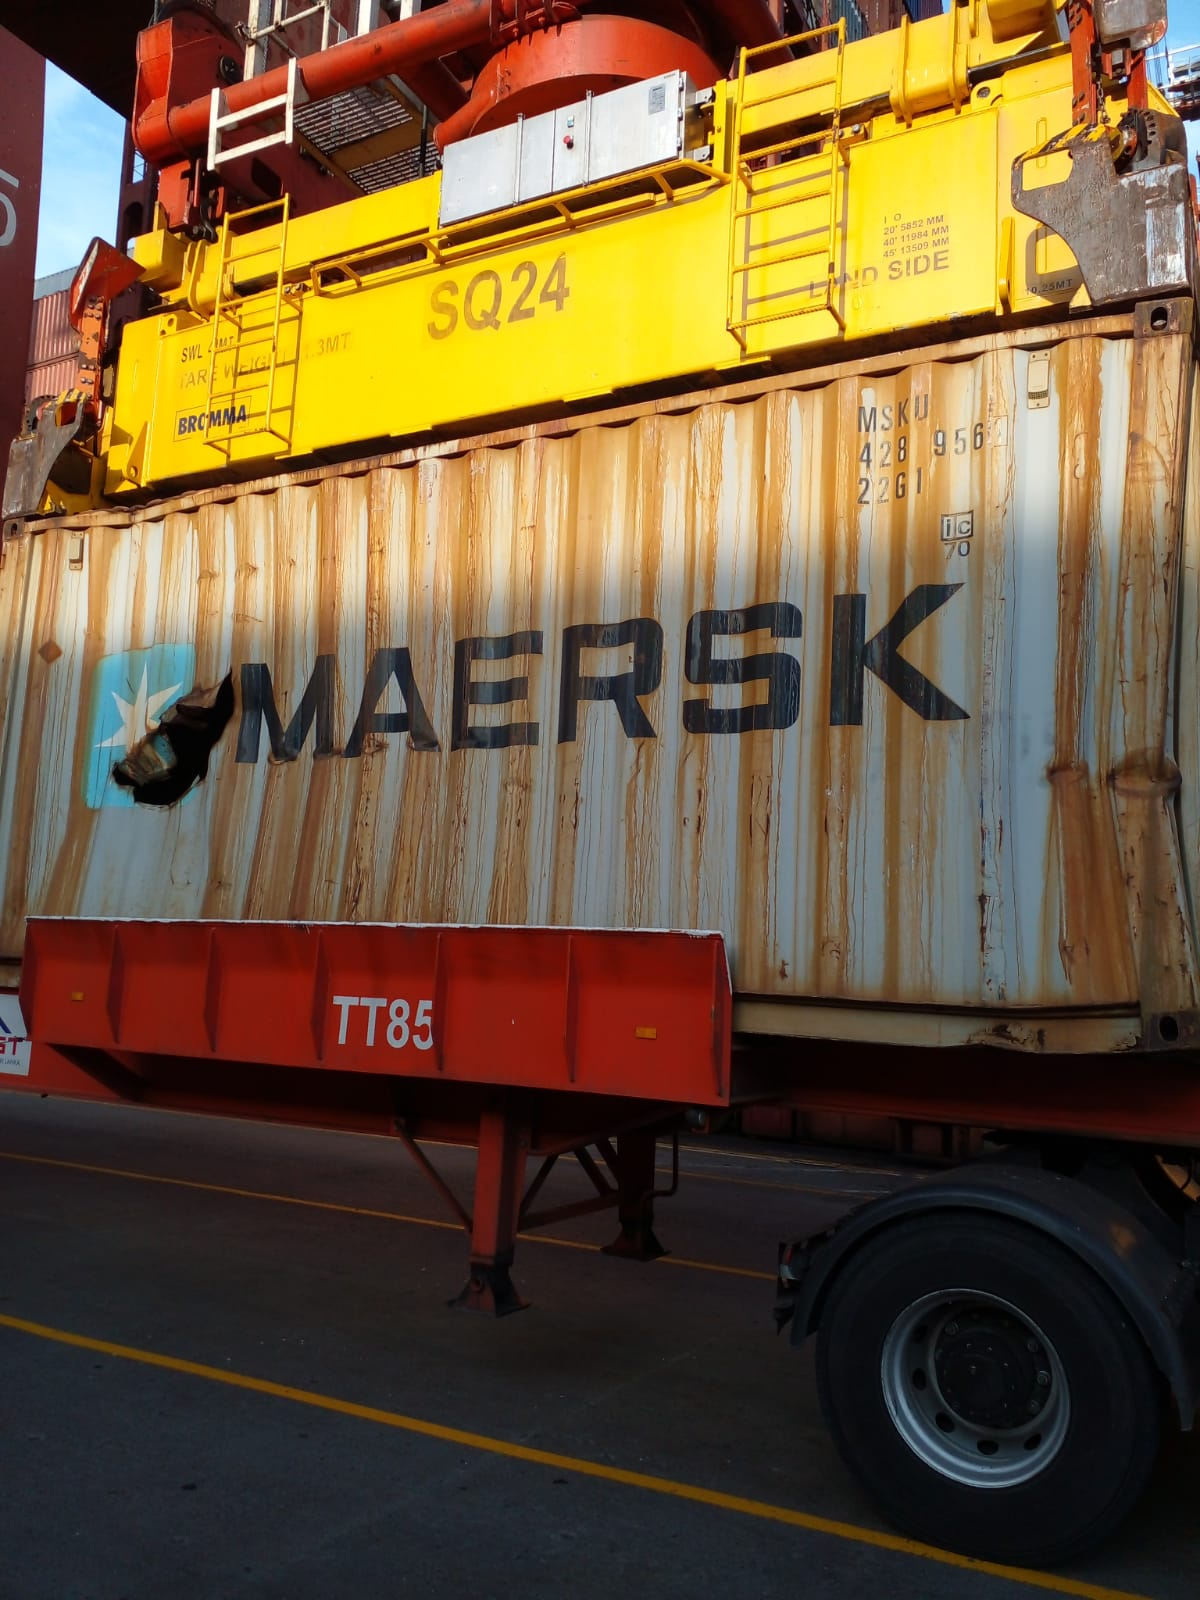cut: (91, 640, 308, 835)
dented: (1021, 738, 1196, 838)
